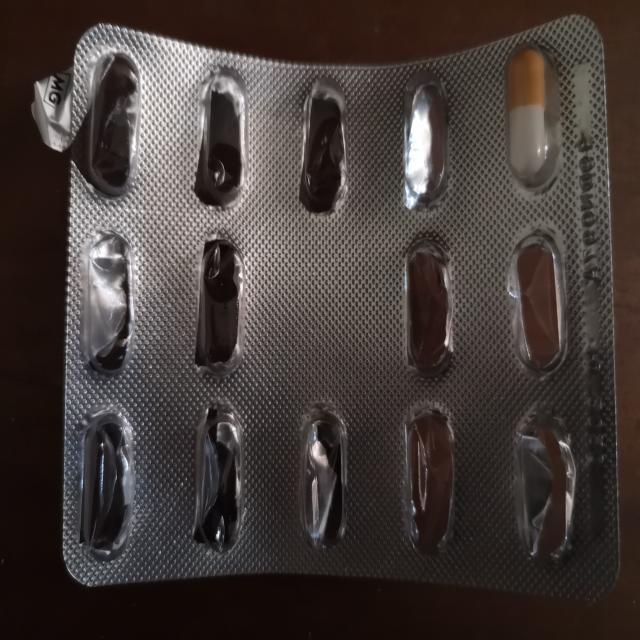Empty: (506, 397, 586, 574), (498, 224, 579, 380), (69, 403, 139, 571), (393, 400, 465, 563), (74, 219, 143, 385), (184, 394, 252, 559), (289, 394, 356, 558), (188, 58, 254, 216), (82, 43, 146, 202), (398, 225, 462, 383), (394, 67, 460, 218), (190, 224, 250, 380), (294, 71, 353, 223)
Pill: (494, 39, 564, 194)
